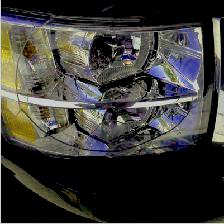head_lamp: (7, 22, 199, 158)
